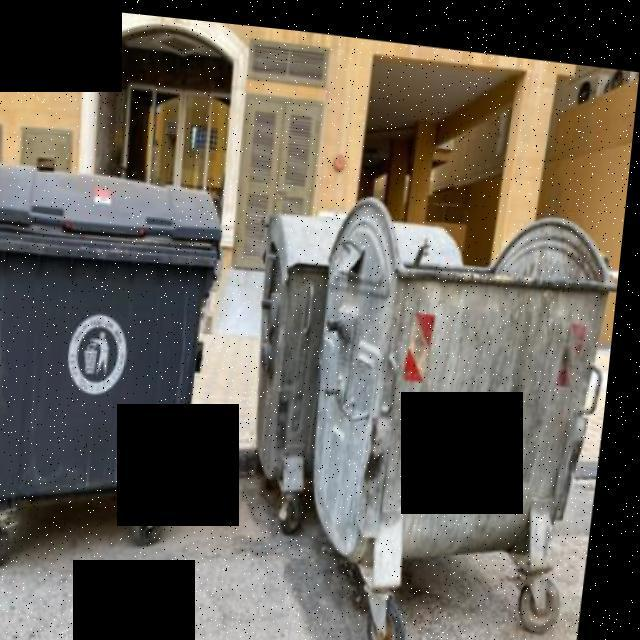bin: (0, 149, 239, 597)
